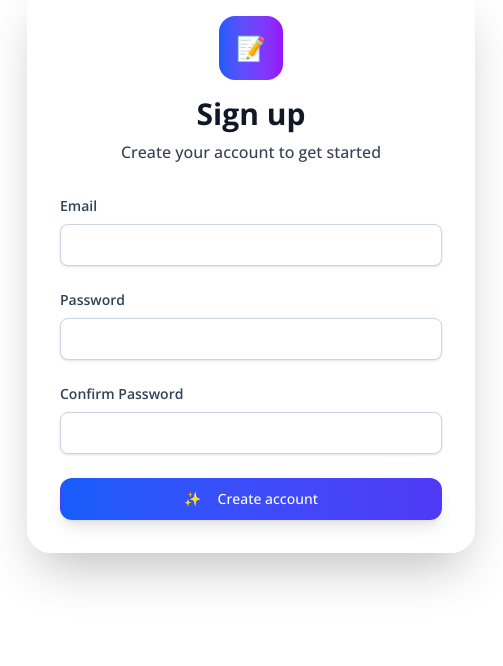
Test case: RegisterForm integration › shows validation errors for empty submit
Click the button "✨ Create account".
click(251, 499)  # box left=60, top=478, right=442, bottom=520
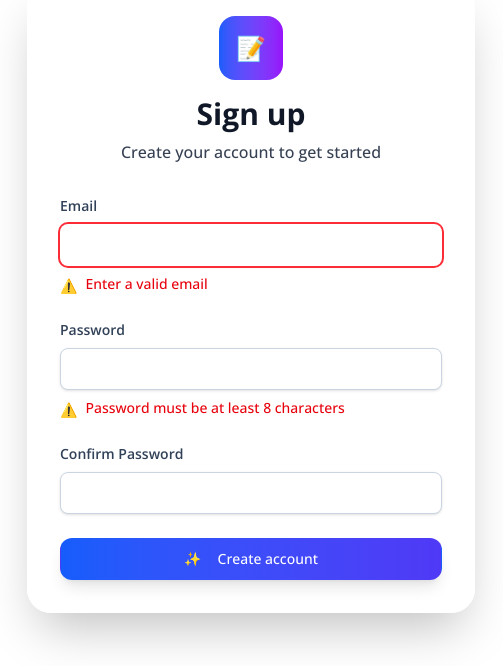
Result: the text "Enter a valid email" is shown at left=86, top=274, right=208, bottom=294
